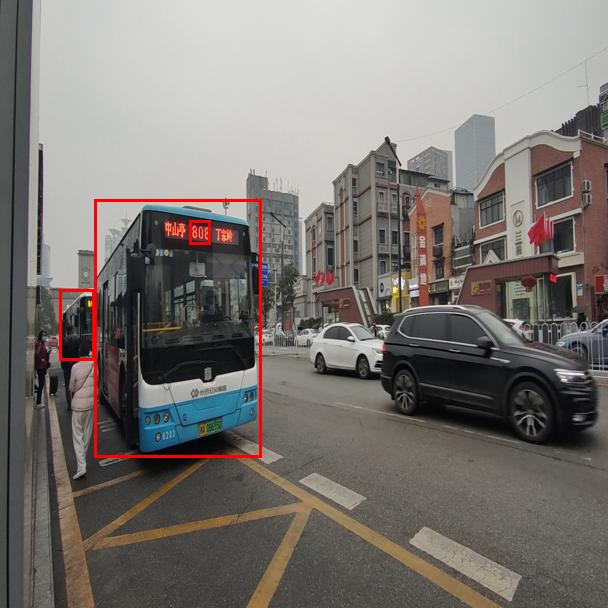bus: (94, 199, 261, 457), (59, 289, 94, 360)
screen: (189, 220, 210, 244)
